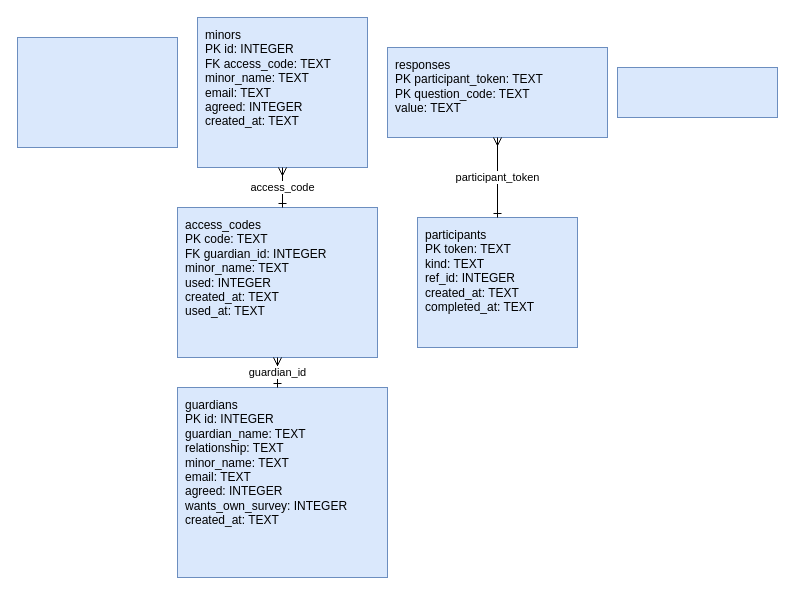
Image size: 795x595. Some labels were removed from this diagram. The shapes that lost their labels are listed below. From the top down, each one's box as (x1, y1, x2, y2) in pixels, then its label:
(16, 36, 178, 148): adults PK id: INTEGER email: TEXT agreed: INTEGER created_at: TEXT
(616, 66, 778, 118): settings value: TEXT
